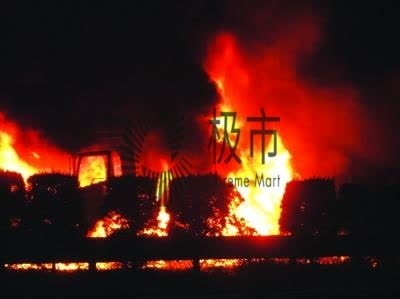fire: (201, 35, 304, 247)
